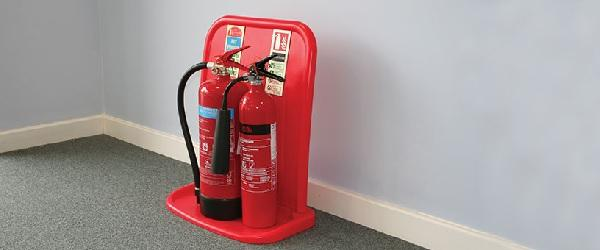wall-mounted: (179, 44, 249, 223), (214, 54, 283, 226)
